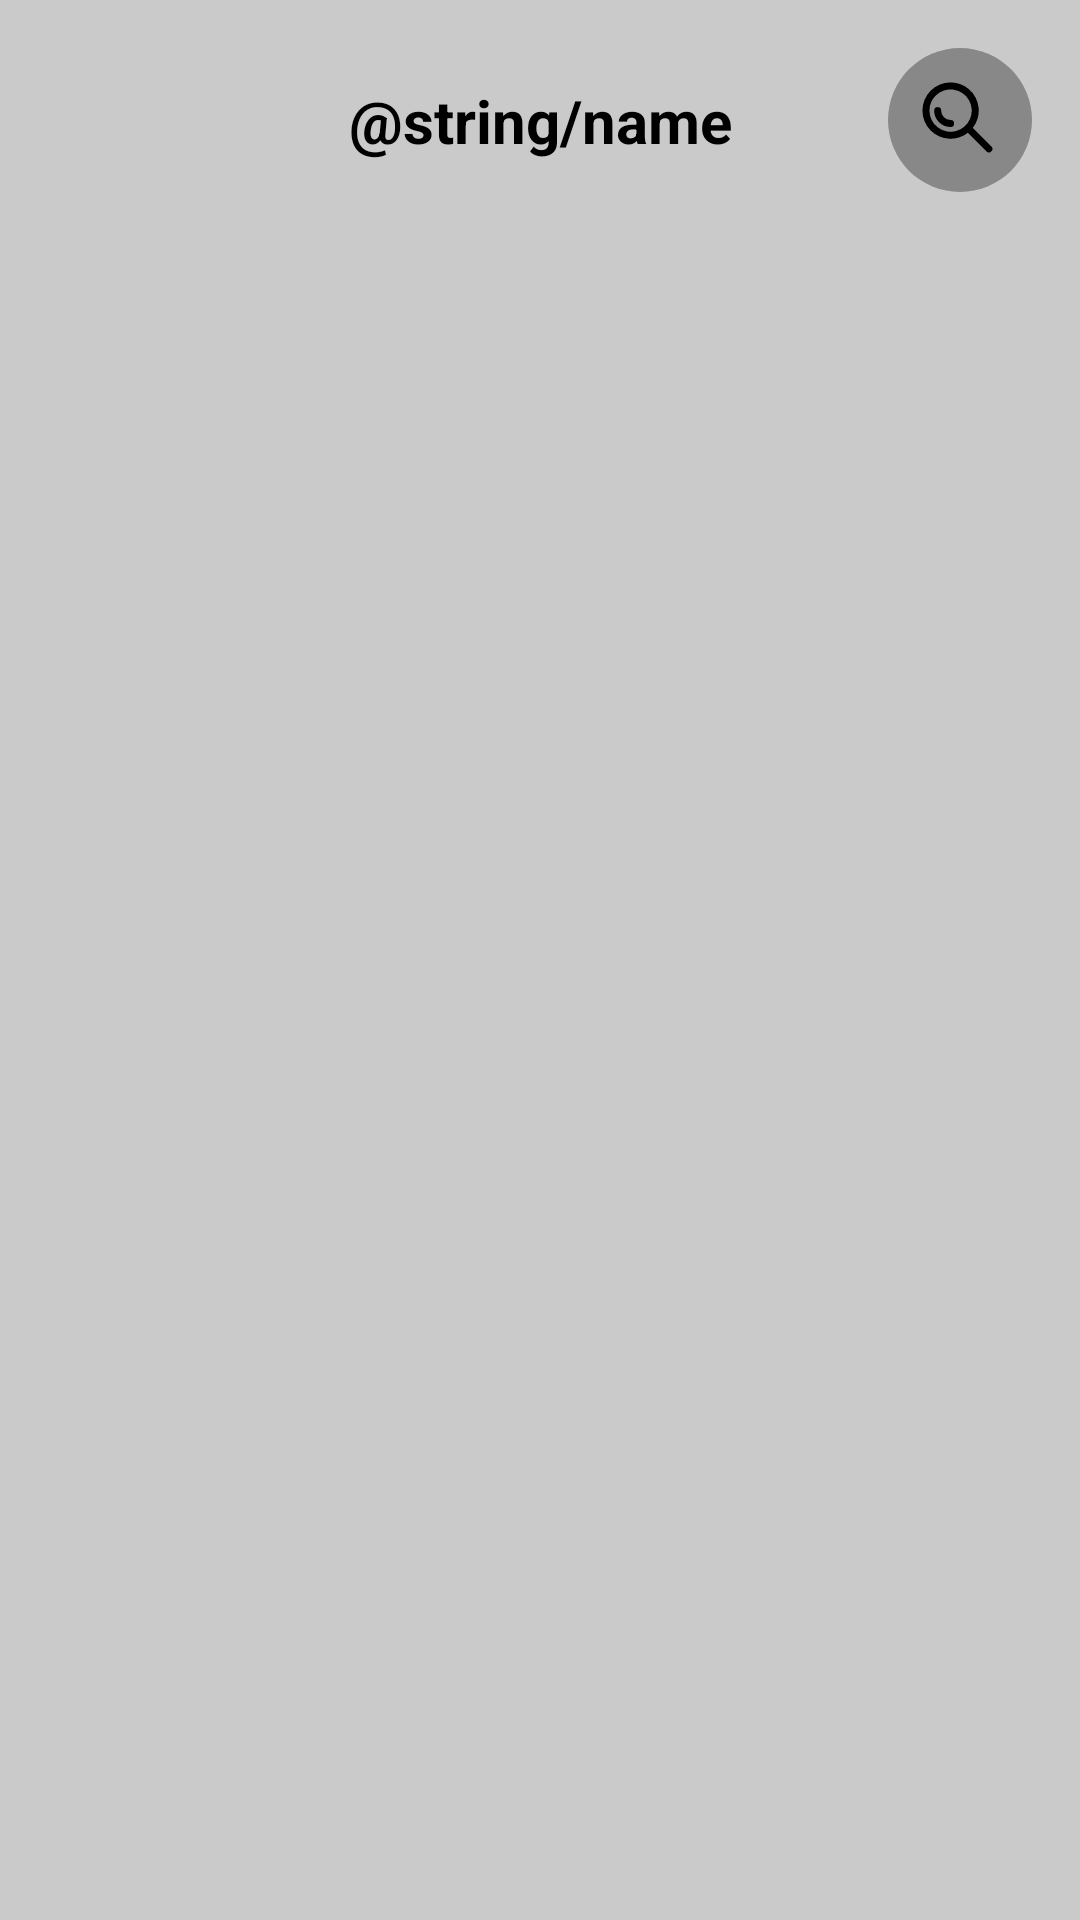

Icon click points for this 1080x1920 phone screenshot, format (x=x, y=y):
search: (x=960, y=120)
